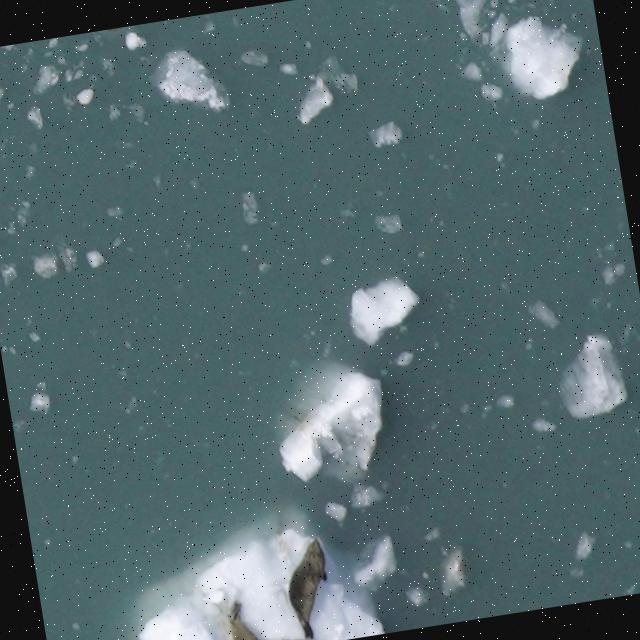seal: (275, 532, 344, 640), (220, 591, 274, 640), (258, 627, 342, 640)
